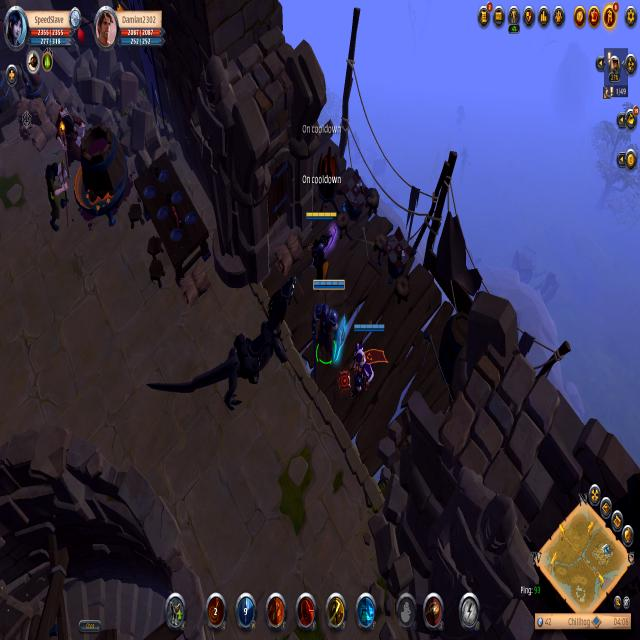ore: (40, 151, 70, 234), (54, 101, 89, 170)
red: (307, 274, 348, 376), (346, 317, 388, 398), (301, 206, 341, 288)
